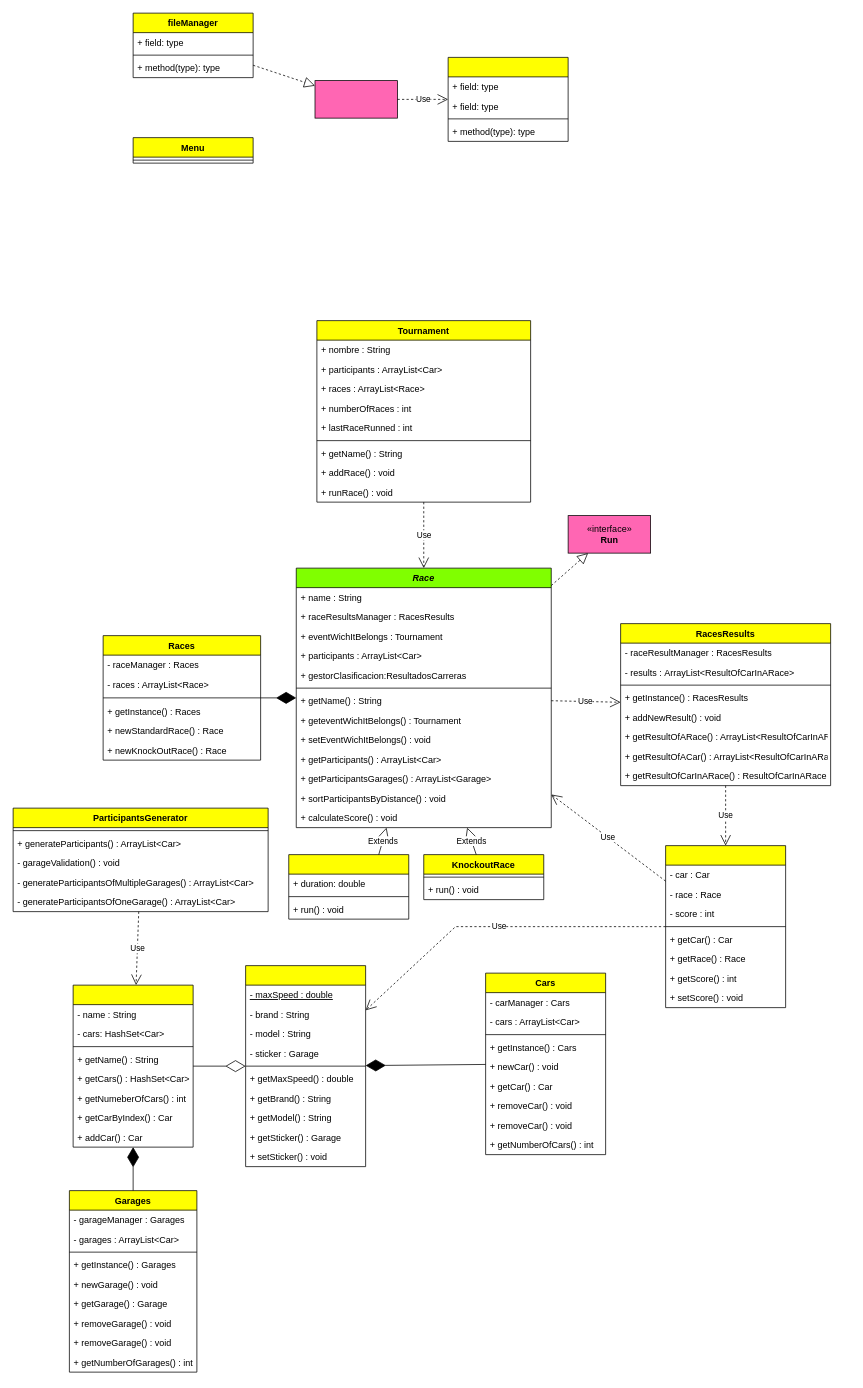
The diagram is 863 pixels wide and 1388 high, and some of its shapes have lost their labels. The shapes that lost their labels are listed below. From the top down, each one's box as (x1, y1, x2, y2) in pixels, then its label:
(314, 80, 398, 118): «interface» StateKeeper
(447, 57, 568, 141): State
(288, 854, 409, 919): StandardRace
(665, 845, 786, 1008): ResultOfCarInARace
(72, 984, 193, 1147): Garaje
(245, 965, 366, 1167): Car
